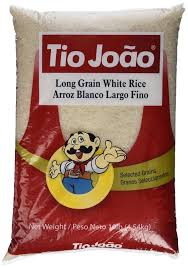arroz: (7, 5, 181, 259)
